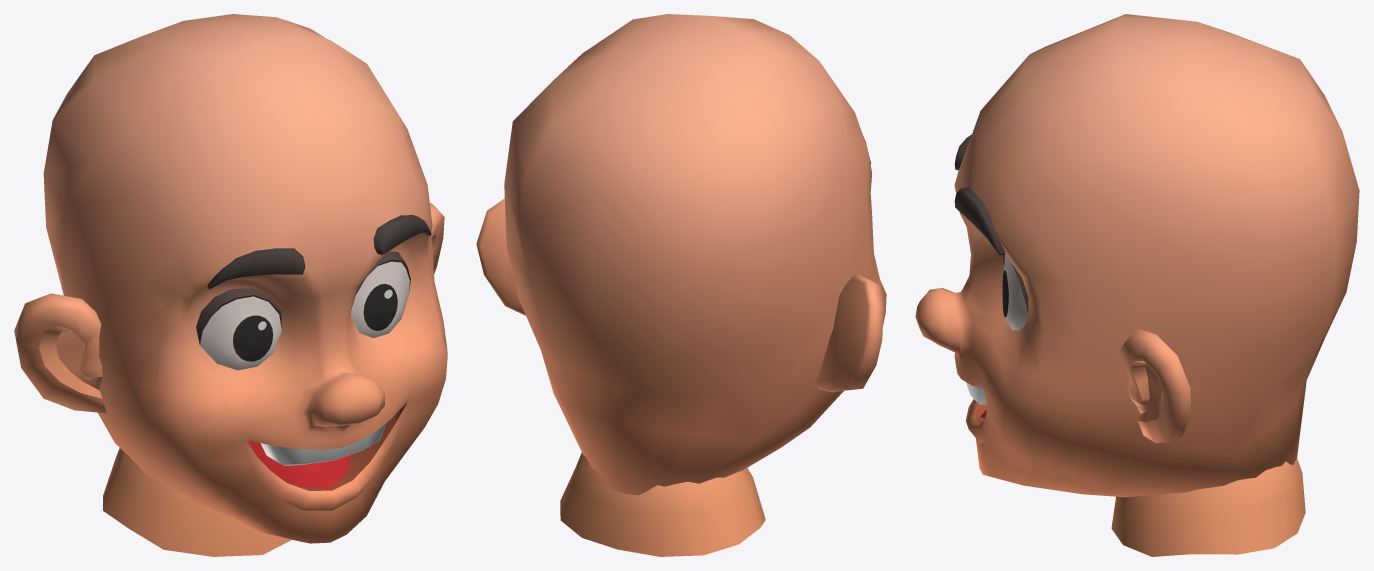
The model's file is Racer_Head_03.fbx.
The picture shows the model from 3 angles, left to right: view 1: azimuth 30°, elevation 25°; view 2: azimuth 150°, elevation 25°; view 3: azimuth 270°, elevation 25°; orthographic projection. The views are drawn at different scales.
Visible parts, largest first — view 1: Racer_Head_03; view 2: Racer_Head_03; view 3: Racer_Head_03.
Boxes of the visible parts, x1,y1,x2,y2 form: Racer_Head_03: (14,14,447,556); Racer_Head_03: (476,14,886,556); Racer_Head_03: (915,14,1359,556).
Bounding box in the file's own units: 32.7 × 30.24 × 37.22.
